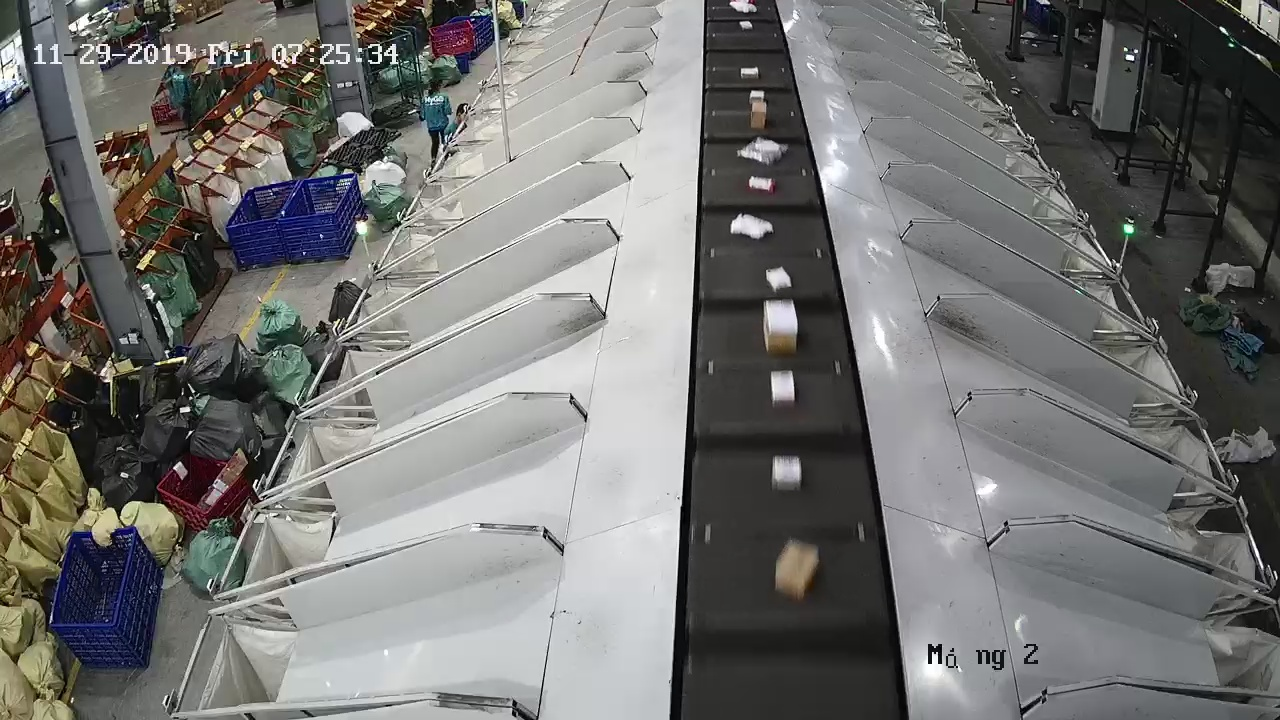parcel: (775, 536, 819, 601), (762, 298, 798, 355), (737, 137, 789, 166), (730, 213, 774, 241), (771, 455, 802, 492), (770, 369, 795, 409), (765, 265, 792, 292), (745, 175, 778, 195)
